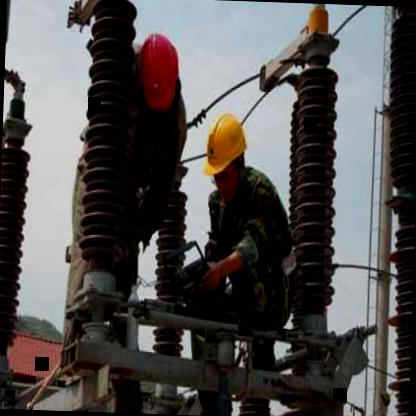helmet: (198, 108, 252, 204), (134, 28, 184, 121)
